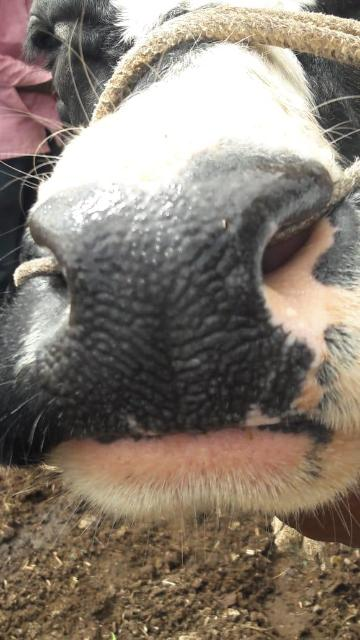Muzzle: (62, 197, 262, 427)
